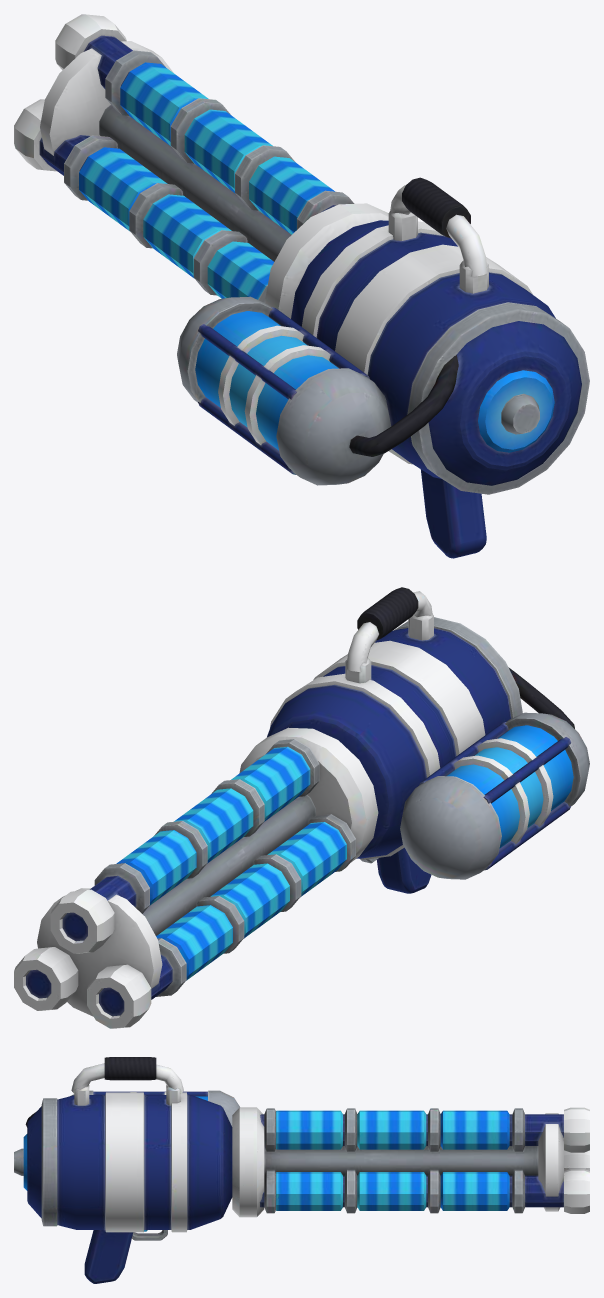
Rendered from minigun_vulcan.glb.
3 renders of one model, top to bottom at view 1: azimuth 30°, elevation 25°; view 2: azimuth 150°, elevation 25°; view 3: azimuth 270°, elevation 25°, orthographic. The views are drawn at different scales.
Parts seen in each view (by area): view 1: minigun_vulcan, spin; view 2: minigun_vulcan, spin; view 3: spin, minigun_vulcan.
Part boxes in pixels (left/top/right/bottom): minigun_vulcan: left=177, top=177, right=589, bottom=558; spin: left=14, top=14, right=388, bottom=318; minigun_vulcan: left=267, top=587, right=589, bottom=893; spin: left=14, top=727, right=378, bottom=1028; spin: left=232, top=1107, right=589, bottom=1217; minigun_vulcan: left=14, top=1057, right=239, bottom=1283.
Bounding box in the file's own units: 0.3685 × 0.4262 × 1.
Materials: 10 (10 with a texture image).
